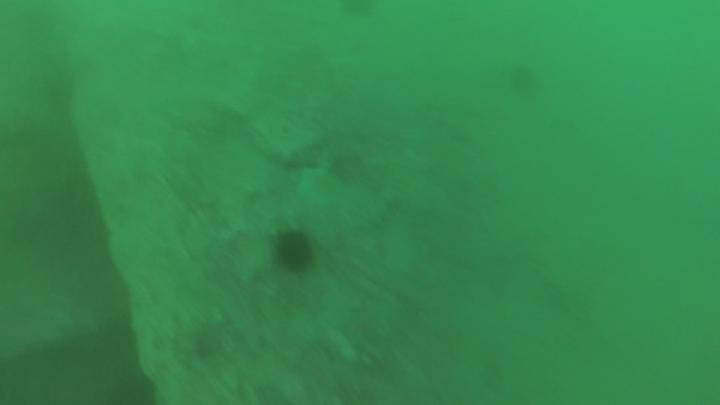echinus: (277, 235, 316, 274), (509, 63, 534, 93)
